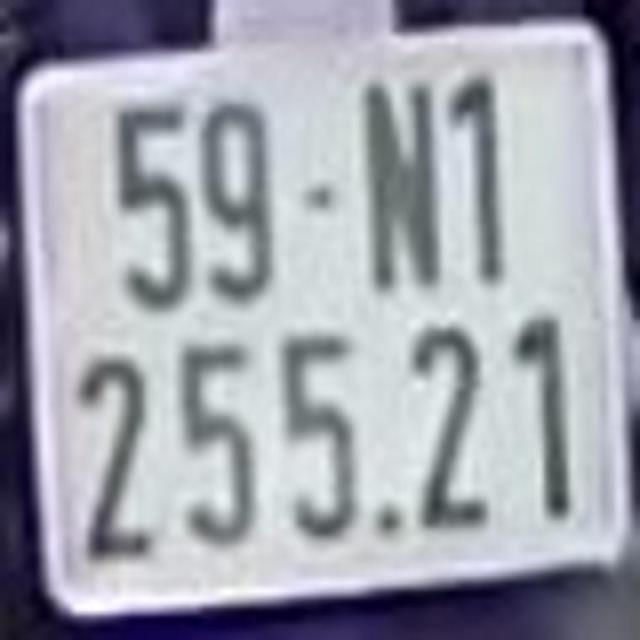1: (509, 313, 582, 522), (449, 68, 519, 284)
2: (74, 344, 162, 561), (410, 321, 493, 529)
5: (275, 329, 359, 537), (114, 95, 193, 314), (178, 335, 258, 540)
9: (193, 87, 274, 307)
N: (362, 75, 448, 296)
